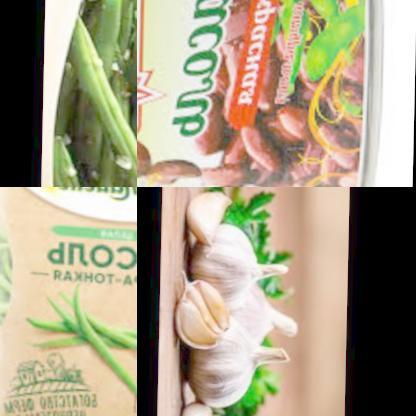fasol: (154, 0, 365, 187), (47, 0, 137, 187), (25, 275, 137, 400), (137, 131, 201, 187), (0, 187, 16, 351)
garlic: (183, 306, 298, 414), (183, 217, 292, 309), (226, 275, 305, 344), (176, 273, 235, 350), (180, 187, 231, 255), (179, 397, 214, 416)
